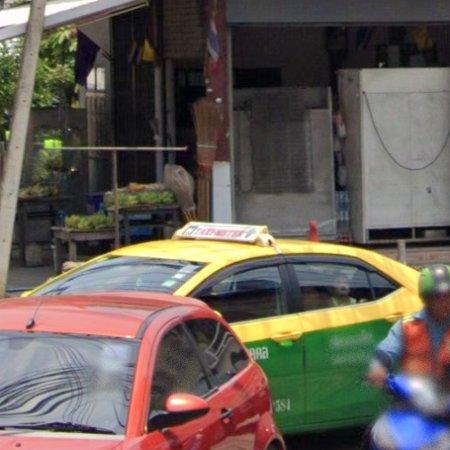taxis: (27, 222, 422, 435)
